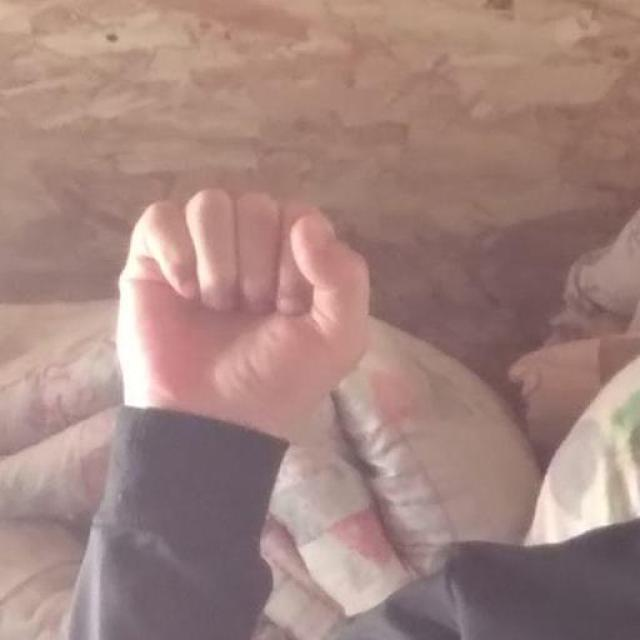hand: (115, 185, 373, 447)
